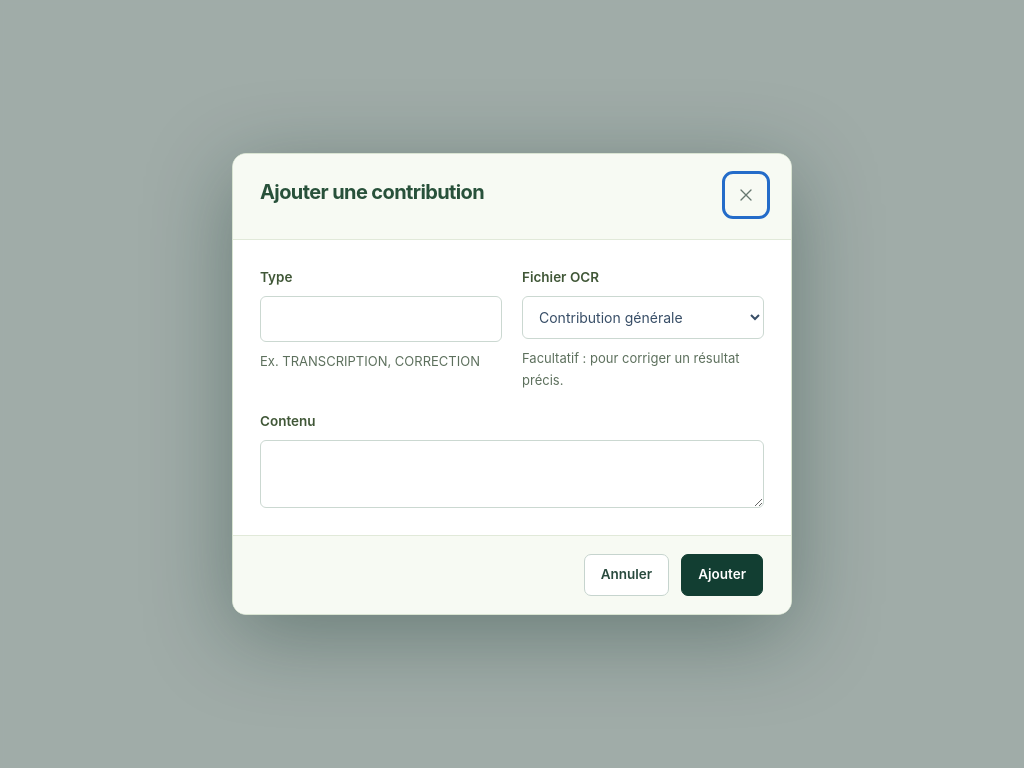
Scenario: changer le fichier OCR efface le résultat et interdit un lien périmé
Select "Page 1 · image/png · MASTER" in the dropdown named "Fichier OCR de la contribution" at x=643, y=318, box x1=522 y1=296 x2=764 y2=339
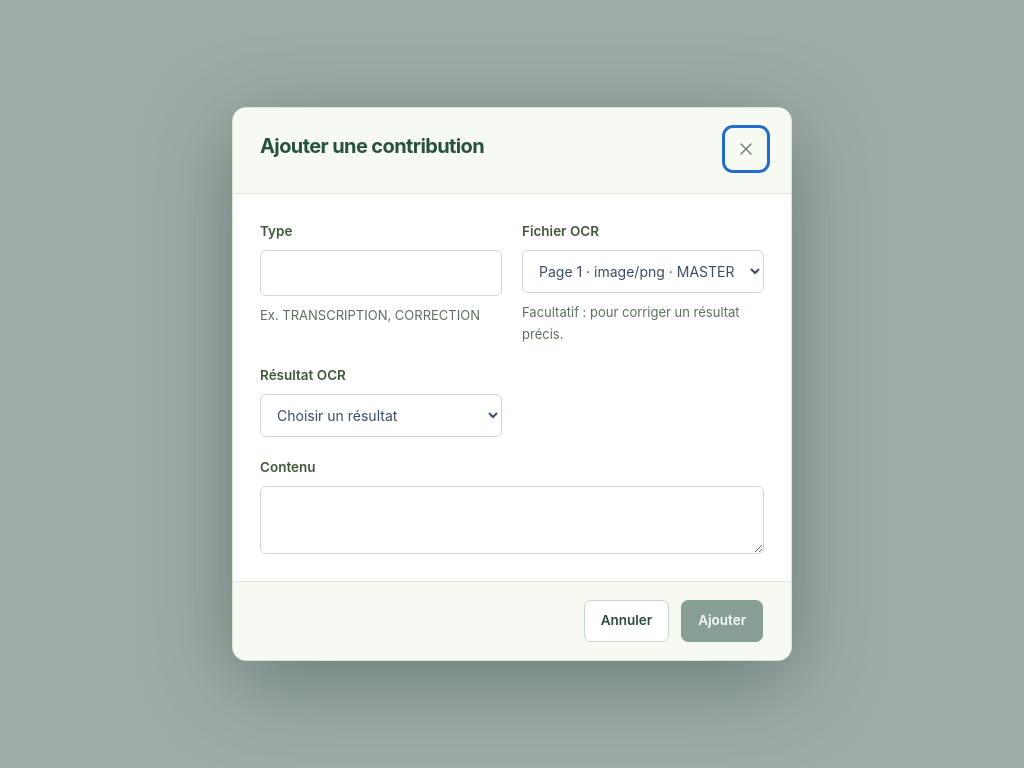
Select "OCR · Tesseract · NON_VALIDE ·" in the dropdown named "Résultat OCR de la contribution" at x=381, y=416, box x1=260 y1=394 x2=502 y2=437
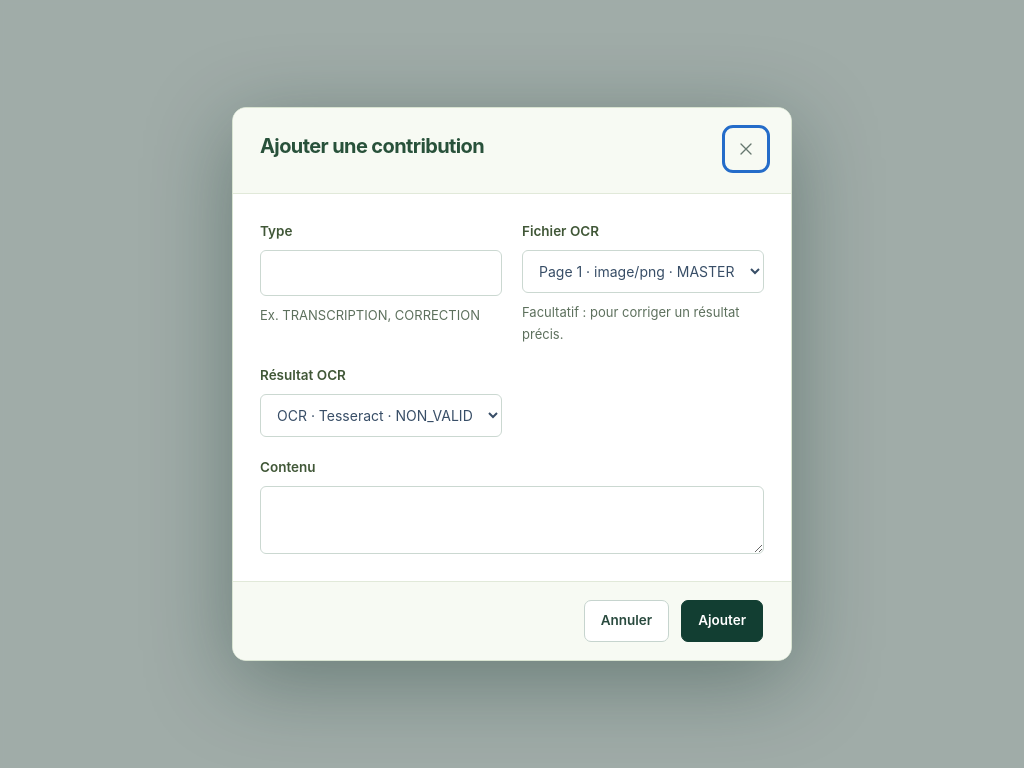
Select "Page 2 · image/png · MASTER" in the dropdown named "Fichier OCR de la contribution" at x=643, y=272, box x1=522 y1=250 x2=764 y2=293
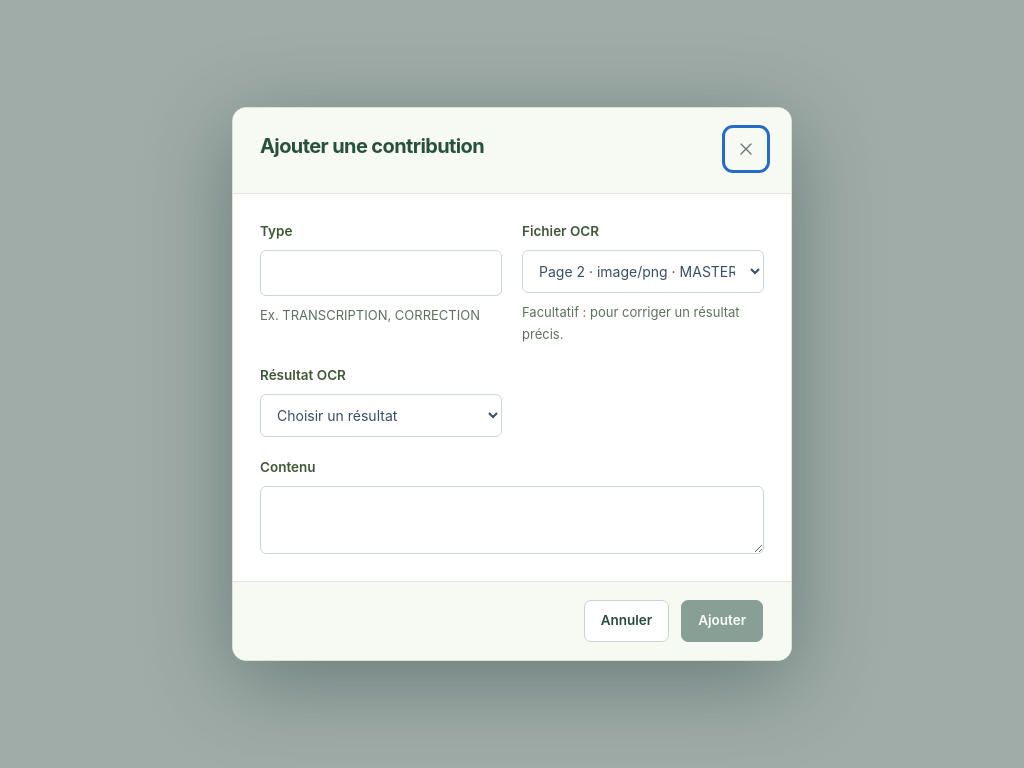
Expected: the button "Ajouter" is disabled, x1=681 y1=600 x2=763 y2=642
